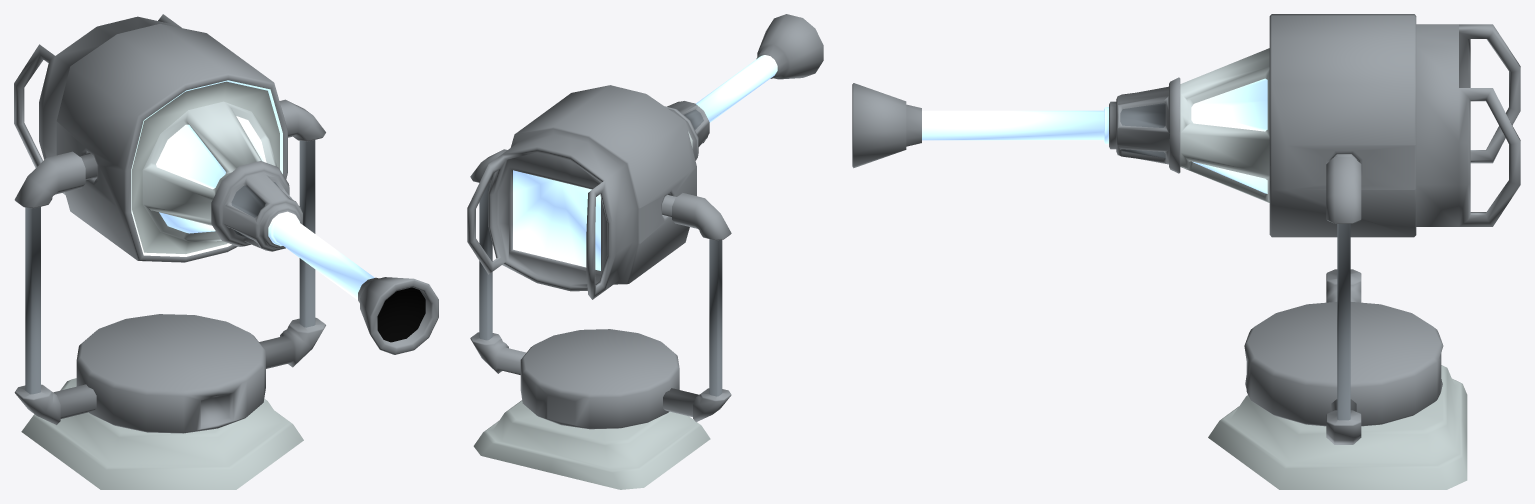
The model's file is CanonBall_mdl.fbx.
3 views of the same model, side by side, from view 1: azimuth 30°, elevation 25°; view 2: azimuth 150°, elevation 25°; view 3: azimuth 270°, elevation 25° (orthographic). The views are drawn at different scales.
Visible parts, largest first — view 1: Canon, Base_Rotatoria, Base, Base_2; view 2: Canon, Base_Rotatoria, Base, Base_2; view 3: Canon, Base_Rotatoria, Base, Base_2.
Boxes of the visible parts, x1,y1,x2,y2 form: Canon: (14, 14, 438, 354); Base_Rotatoria: (76, 314, 265, 433); Base: (21, 378, 303, 489); Base_2: (14, 99, 325, 424); Canon: (467, 14, 823, 299); Base_Rotatoria: (520, 329, 679, 429); Base: (473, 400, 710, 489); Base_2: (470, 149, 731, 422); Canon: (852, 14, 1520, 237); Base_Rotatoria: (1244, 302, 1443, 426); Base: (1208, 365, 1467, 489); Base_2: (1326, 157, 1361, 444).
Bounding box in the file's own units: 665 × 817 × 1205.
